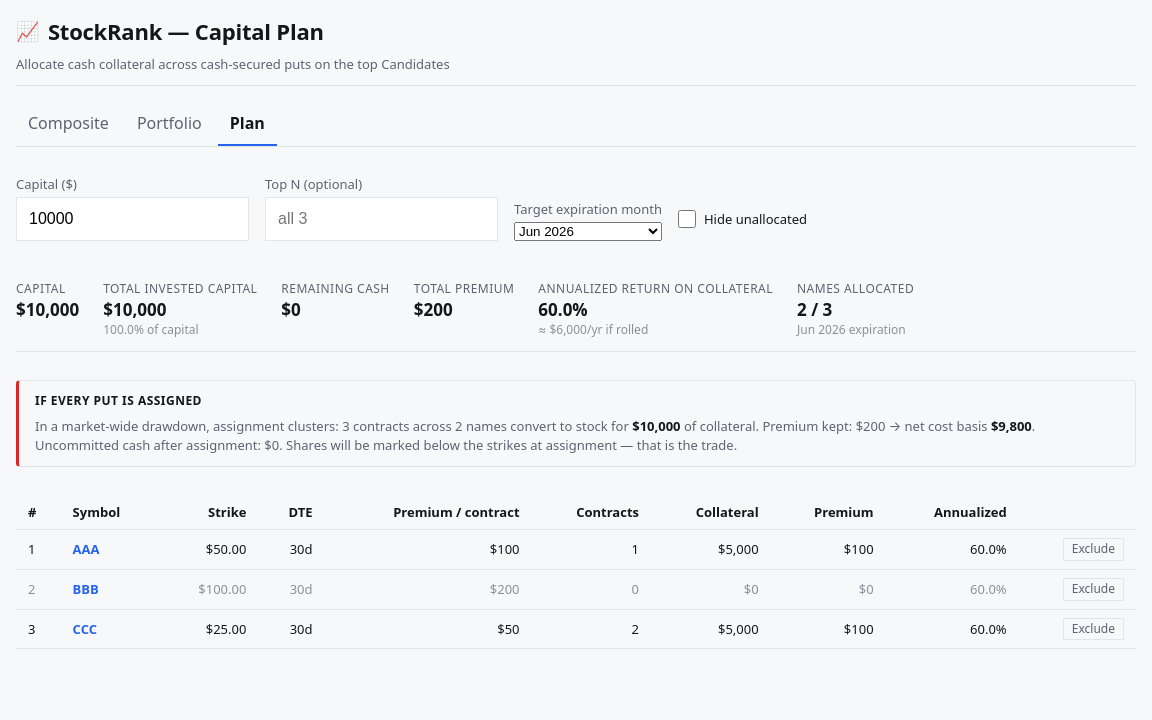
Test: <CapitalPlanScreen /> › renders the allocation table for the current expiration mode
The width and height of the screenshot is (1152, 720).
# Plan auto-builds from initial capital $10k. Re-enter to $30k.
Replace the text in the number field named "capital available" with "30000" at (132, 219), box x1=16 y1=197 x2=249 y2=241
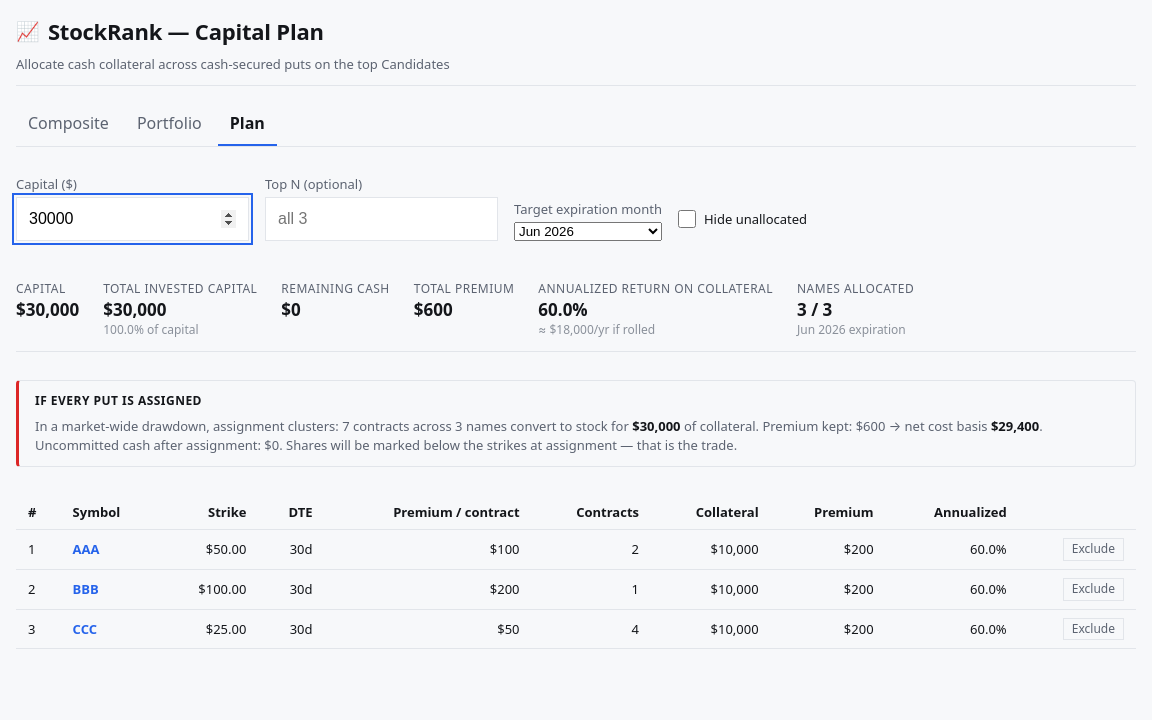
Expected: the number of rows is 4, x1=16 y1=495 x2=1136 y2=529; x1=16 y1=529 x2=1136 y2=569; x1=16 y1=569 x2=1136 y2=609; x1=16 y1=609 x2=1136 y2=649
Expected: the text "2" in the row of "$50.00" is shown, x1=632 y1=540 x2=639 y2=558
Expected: the text "1" in the row of "$100.00" is shown, x1=632 y1=580 x2=639 y2=598
